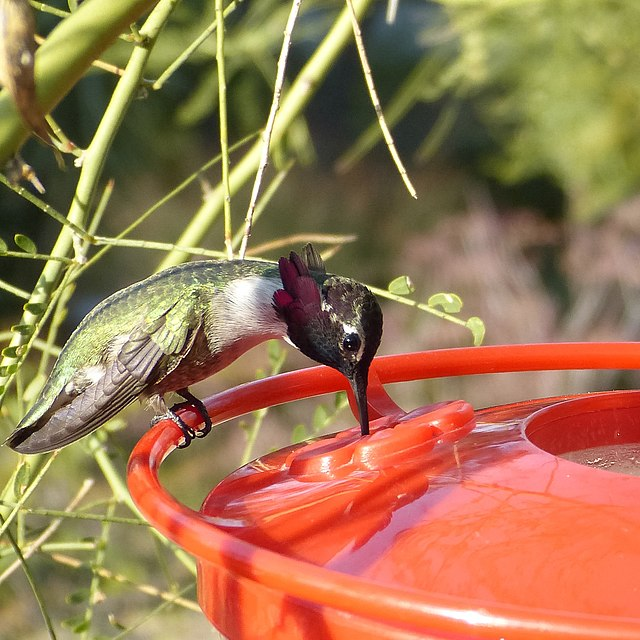calypte costae: (7, 263, 391, 452)
